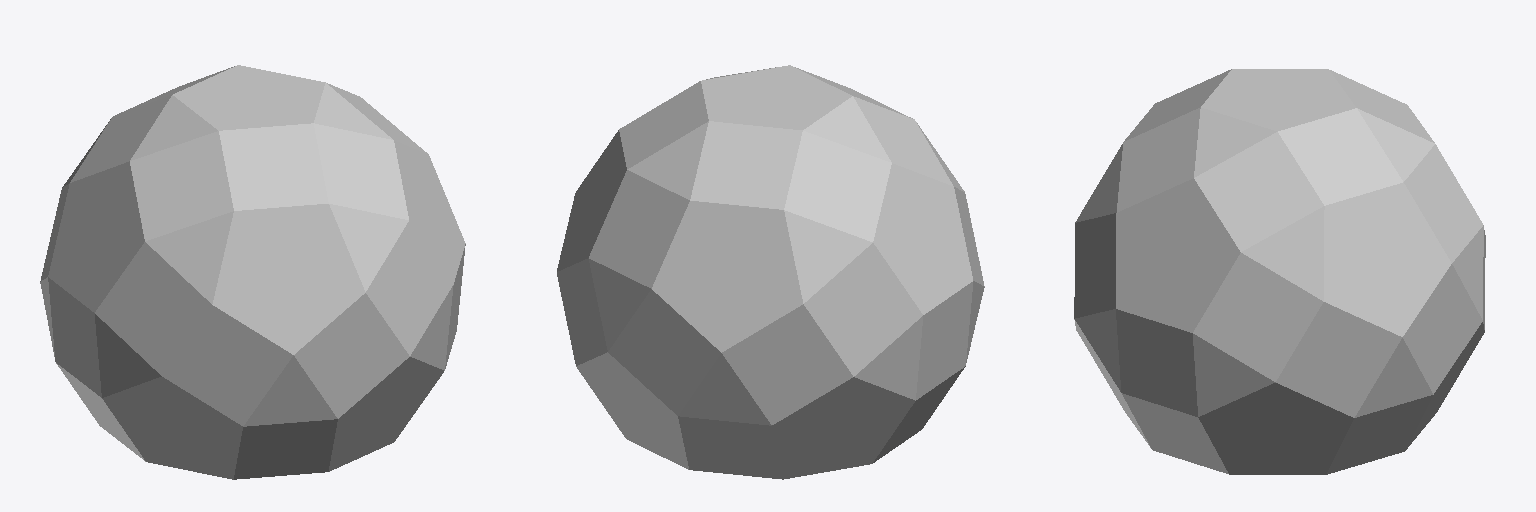
The model's file is BiGyrateDiminishedRhombIcosiDodecahedron.obj.
The picture shows the model from 3 angles: view 1: azimuth 30°, elevation 25°; view 2: azimuth 150°, elevation 25°; view 3: azimuth 270°, elevation 25°; orthographic projection.
Parts seen in each view (by area): view 1: BiGyrateDiminishedRhombIcosiDodecahedron; view 2: BiGyrateDiminishedRhombIcosiDodecahedron; view 3: BiGyrateDiminishedRhombIcosiDodecahedron.
Boxes of the visible parts, x1=… form: BiGyrateDiminishedRhombIcosiDodecahedron: x1=40, y1=65, x2=465, y2=479; BiGyrateDiminishedRhombIcosiDodecahedron: x1=557, y1=65, x2=984, y2=479; BiGyrateDiminishedRhombIcosiDodecahedron: x1=1074, y1=69, x2=1485, y2=474.
Bounding box in the file's own units: 3.29 × 2.71 × 3.2.